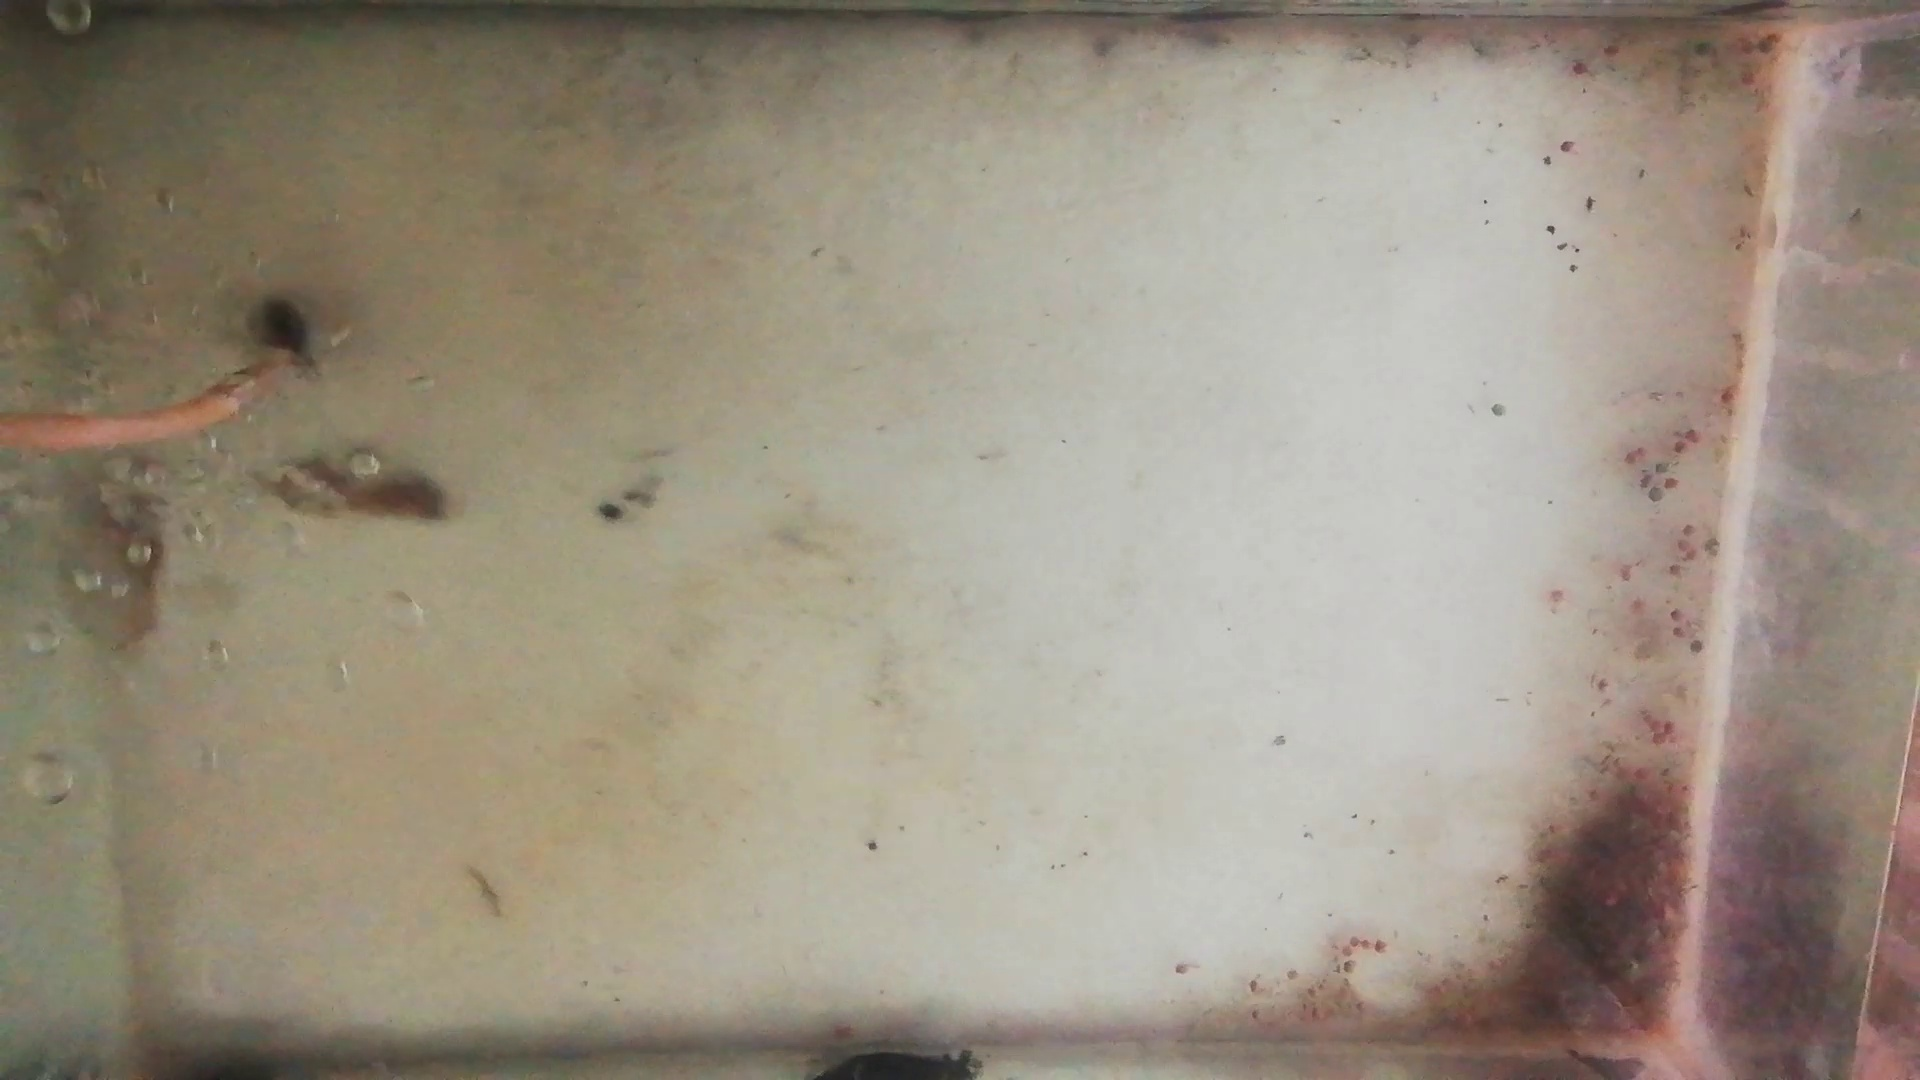fish: (244, 458, 451, 526), (102, 454, 162, 647)
